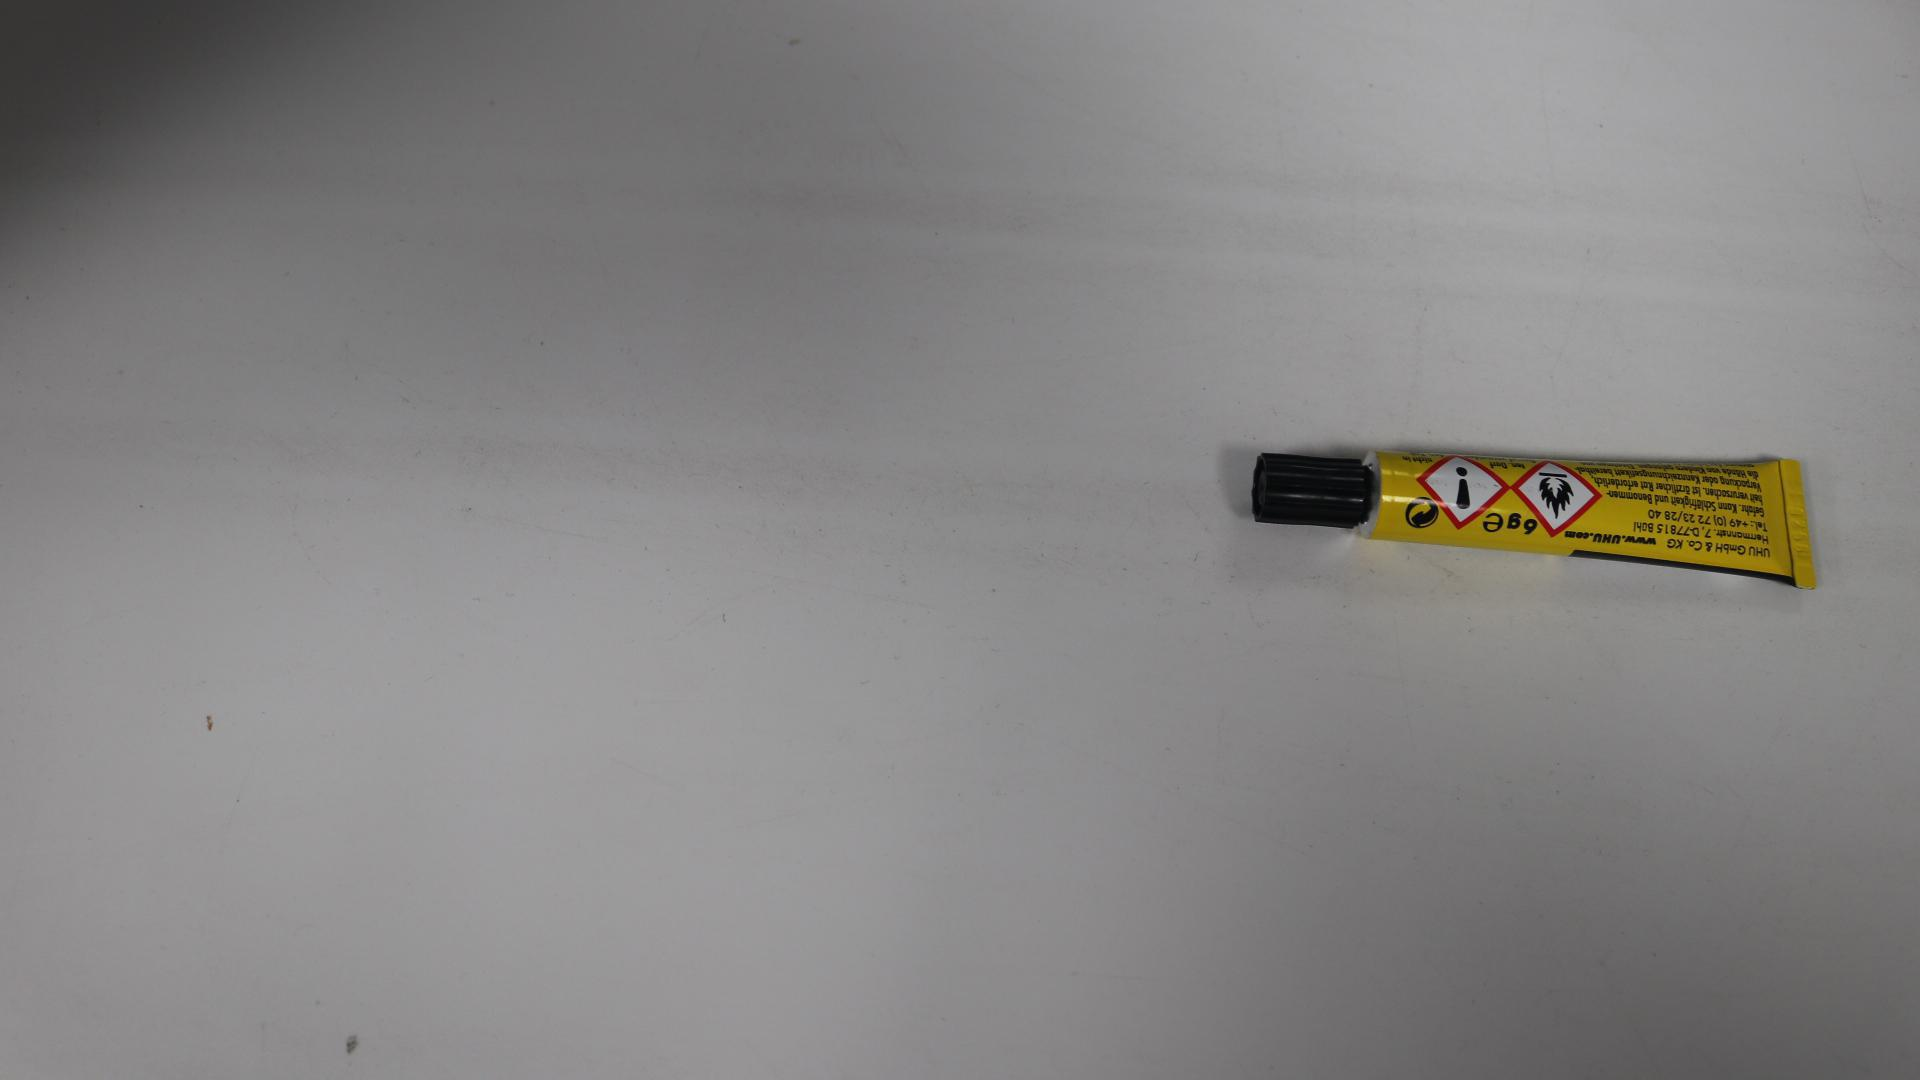Head: (1309, 483, 1326, 496)
Tail: (1788, 513, 1806, 535)
Tube: (1251, 449, 1820, 591)
